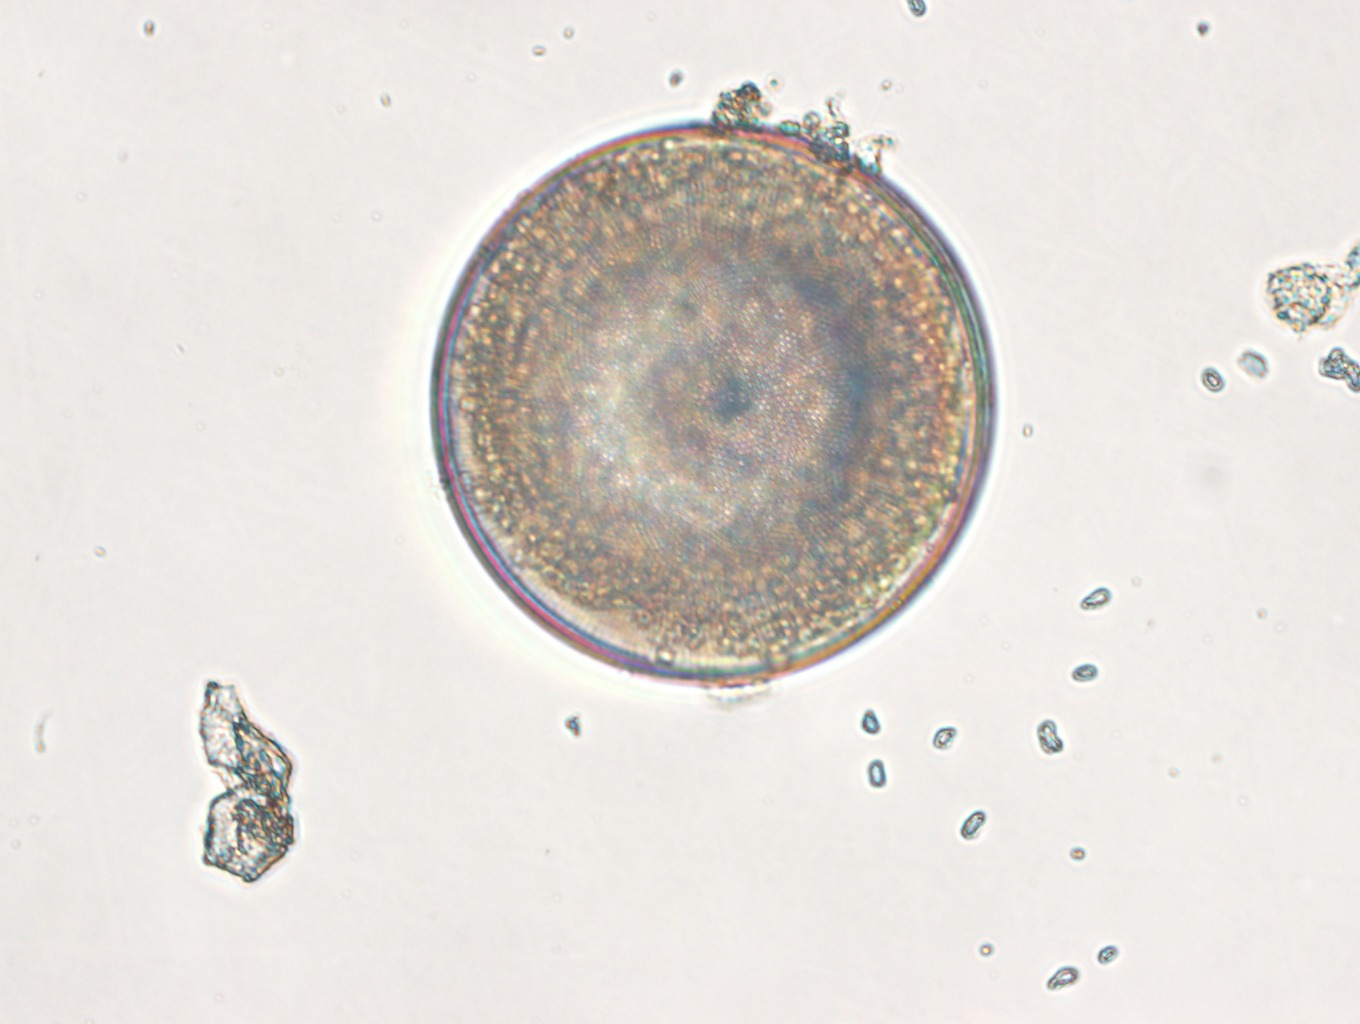coscinodiscus: (429, 119, 994, 685)
